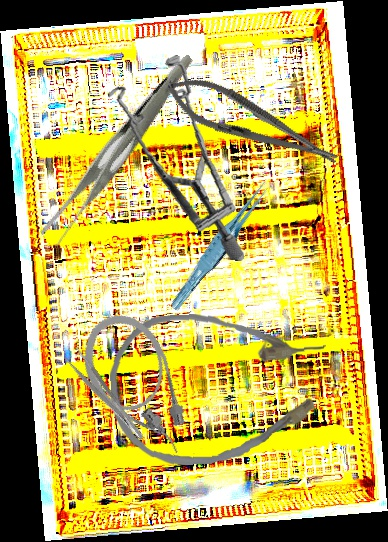Cannula: (107, 307, 332, 469), (69, 301, 203, 474)
Dressing Forceps: (4, 54, 236, 249), (62, 345, 147, 448)
Needle Holder: (158, 64, 346, 182)
Speculum: (92, 48, 264, 262)
Tissue Forceps: (161, 177, 282, 313)
